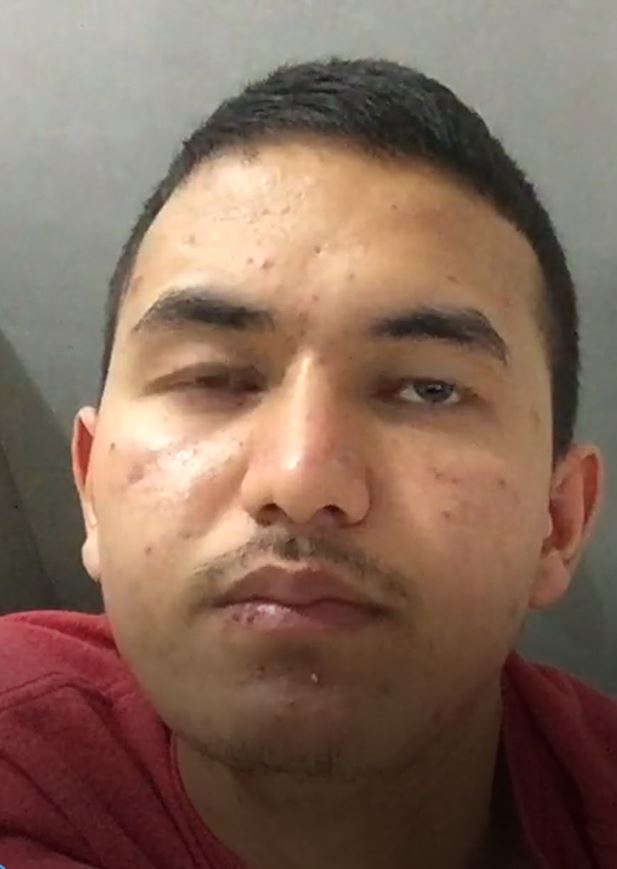Half Asleep: (112, 328, 531, 451)
